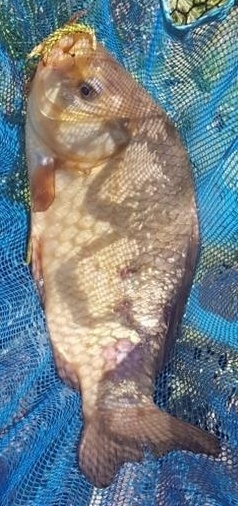Carassius carassius: (20, 20, 218, 486)
